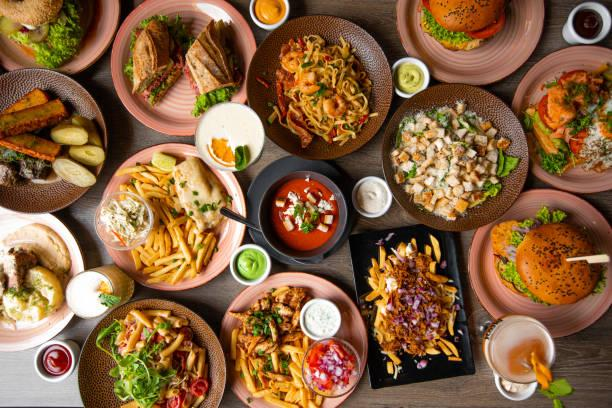Braised Crucian Carp: (245, 13, 390, 162), (381, 83, 526, 230), (346, 222, 473, 389), (98, 143, 243, 289), (466, 188, 609, 333), (110, 0, 253, 136), (219, 271, 360, 405), (77, 298, 224, 407), (2, 67, 107, 212), (512, 44, 611, 192), (398, 0, 543, 85), (243, 154, 353, 265), (1, 212, 84, 349)
